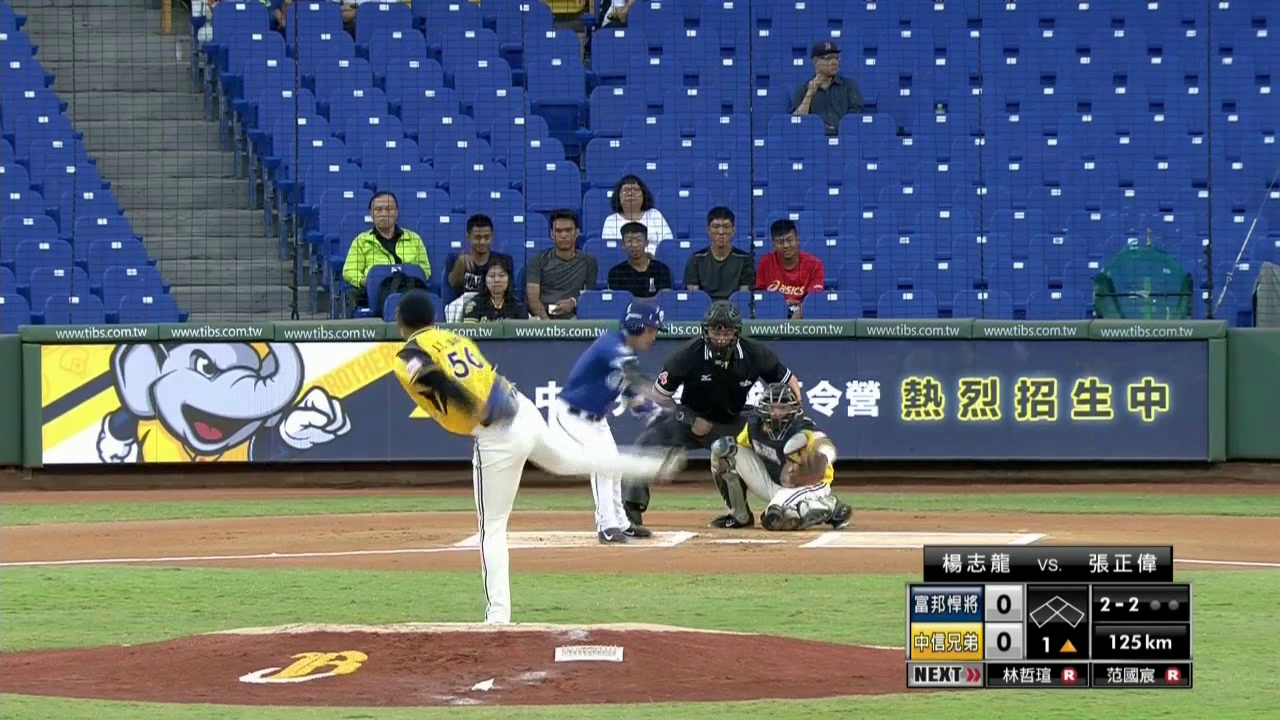base: (1029, 592, 1087, 628)
out: (1147, 597, 1181, 612)
score1: (984, 584, 1023, 621)
score2: (985, 622, 1023, 659)
session: (1038, 636, 1080, 654)
speed: (1107, 630, 1174, 652)
strikeball: (1097, 592, 1140, 614)
